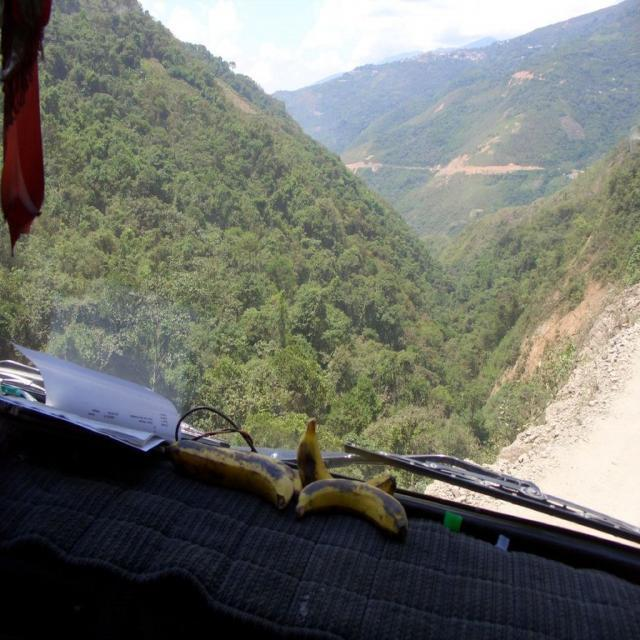Banana: (156, 439, 301, 508), (297, 417, 397, 495)
